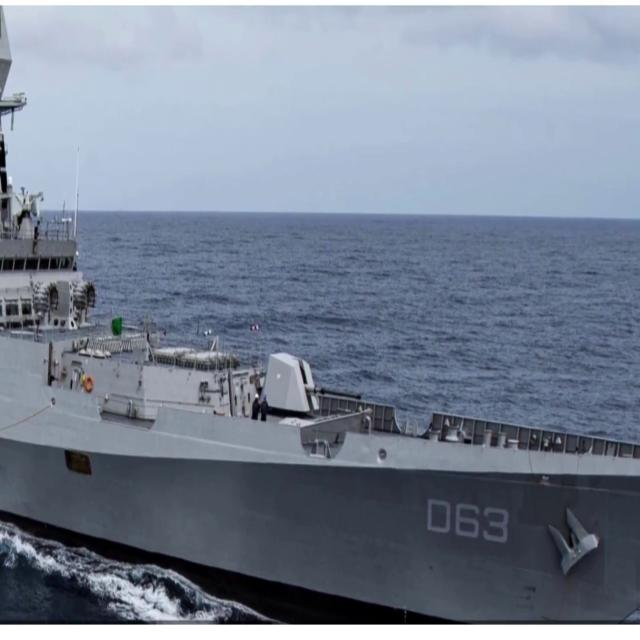OCR: (423, 497, 509, 549)
